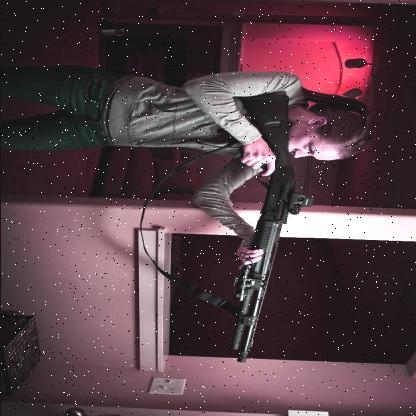rifle: (209, 89, 315, 367)
